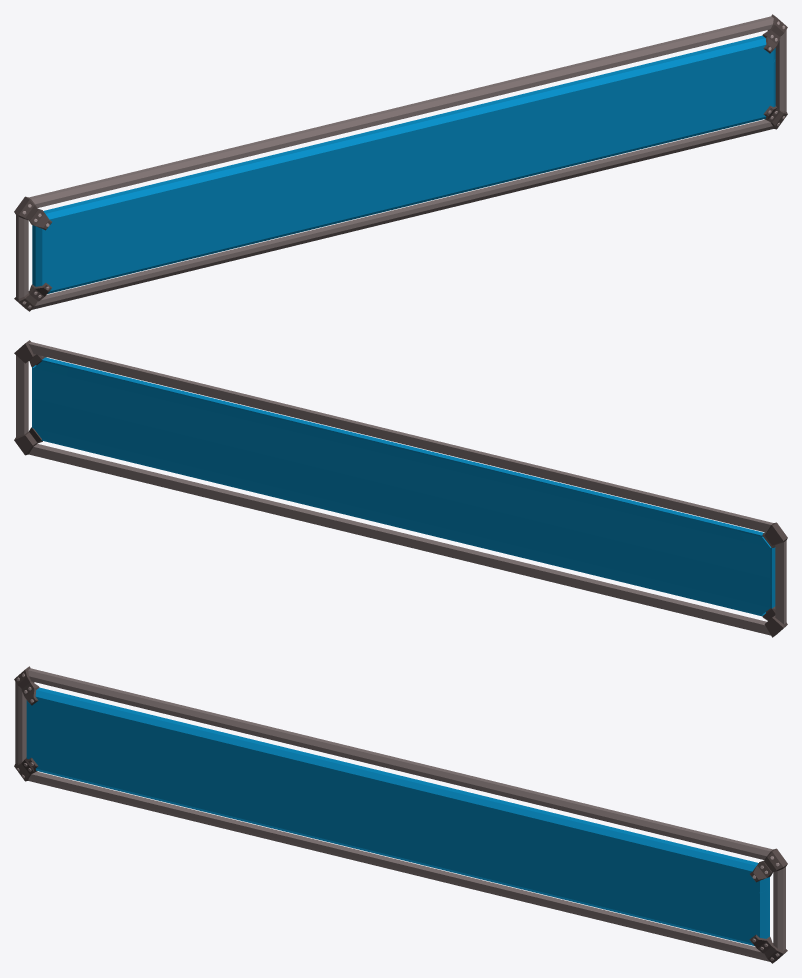
File: ENV_Object_Panel_02.fbx
3 views of the same model, one above another, from view 1: azimuth 30°, elevation 25°; view 2: azimuth 150°, elevation 25°; view 3: azimuth 330°, elevation 25° (orthographic).
Parts seen in each view (by area): view 1: ENV_Object_Panel_01_Panel, ENV_Object_Panel_01_Frame, polySurface67, polySurface70, polySurface68, polySurface65; view 2: ENV_Object_Panel_01_Panel, ENV_Object_Panel_01_Frame, polySurface67, polySurface68, polySurface70, polySurface65, polySurface72, polySurface63; view 3: ENV_Object_Panel_01_Panel, ENV_Object_Panel_01_Frame, polySurface67, polySurface68, polySurface70, polySurface72.
Boxes of the visible parts, <box> form: ENV_Object_Panel_01_Panel: <box>32,35,773,293</box>; ENV_Object_Panel_01_Frame: <box>14,14,787,311</box>; polySurface67: <box>97,42,743,209</box>; polySurface70: <box>42,195,420,290</box>; polySurface68: <box>418,58,775,203</box>; polySurface65: <box>46,198,97,255</box>; ENV_Object_Panel_01_Panel: <box>32,357,775,616</box>; ENV_Object_Panel_01_Frame: <box>14,340,787,637</box>; polySurface67: <box>62,364,715,559</box>; polySurface68: <box>32,379,389,523</box>; polySurface70: <box>389,515,771,616</box>; polySurface65: <box>707,522,761,574</box>; polySurface72: <box>32,358,72,394</box>; polySurface63: <box>739,529,771,588</box>; ENV_Object_Panel_01_Panel: <box>26,687,764,945</box>; ENV_Object_Panel_01_Frame: <box>14,666,787,963</box>; polySurface67: <box>84,701,731,888</box>; polySurface68: <box>441,847,769,945</box>; polySurface70: <box>28,744,406,858</box>; polySurface72: <box>726,857,769,892</box>.
Bounding box in the file's own units: 1149 × 160 × 27.12.
